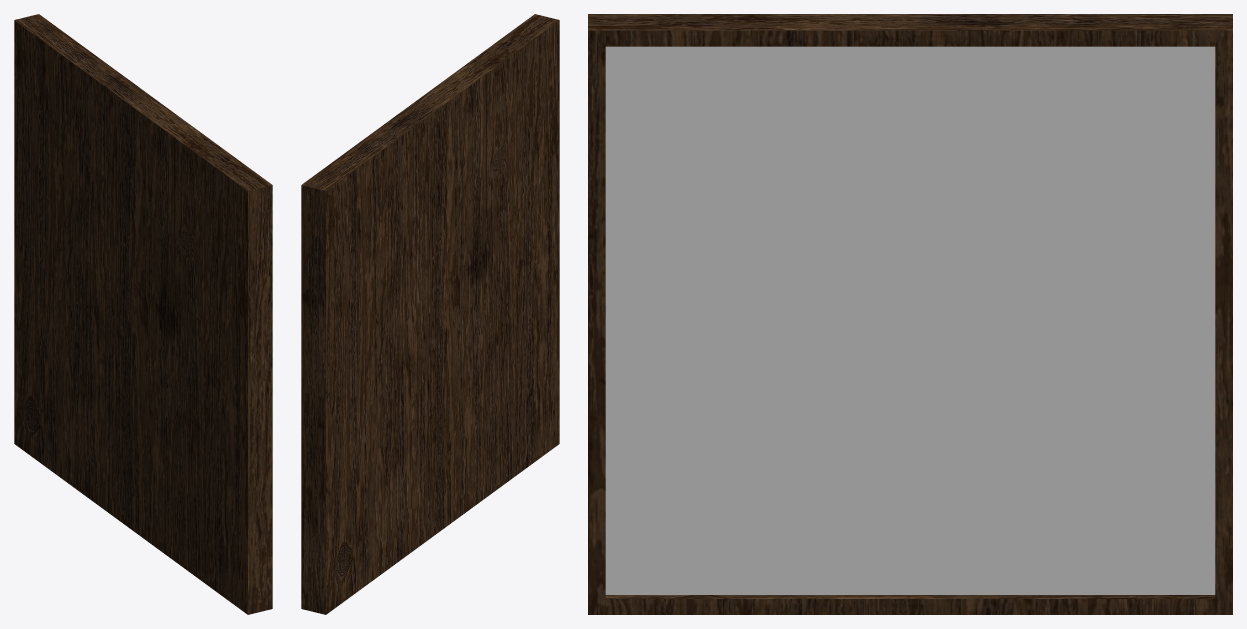
Rendered from Painting.fbx.
3 renders of one model, left to right at view 1: azimuth 30°, elevation 25°; view 2: azimuth 150°, elevation 25°; view 3: azimuth 270°, elevation 25°, orthographic. The views are drawn at different scales.
Visible parts, largest first — view 1: Painting; view 2: Painting; view 3: Painting.
Part boxes in pixels (bbox=[...]): Painting: bbox=[14, 14, 272, 614]; Painting: bbox=[301, 14, 559, 614]; Painting: bbox=[588, 14, 1232, 614].
Size of the model in its own units: 67.9 by 1100 by 1100.
2 materials, 1 textured.
